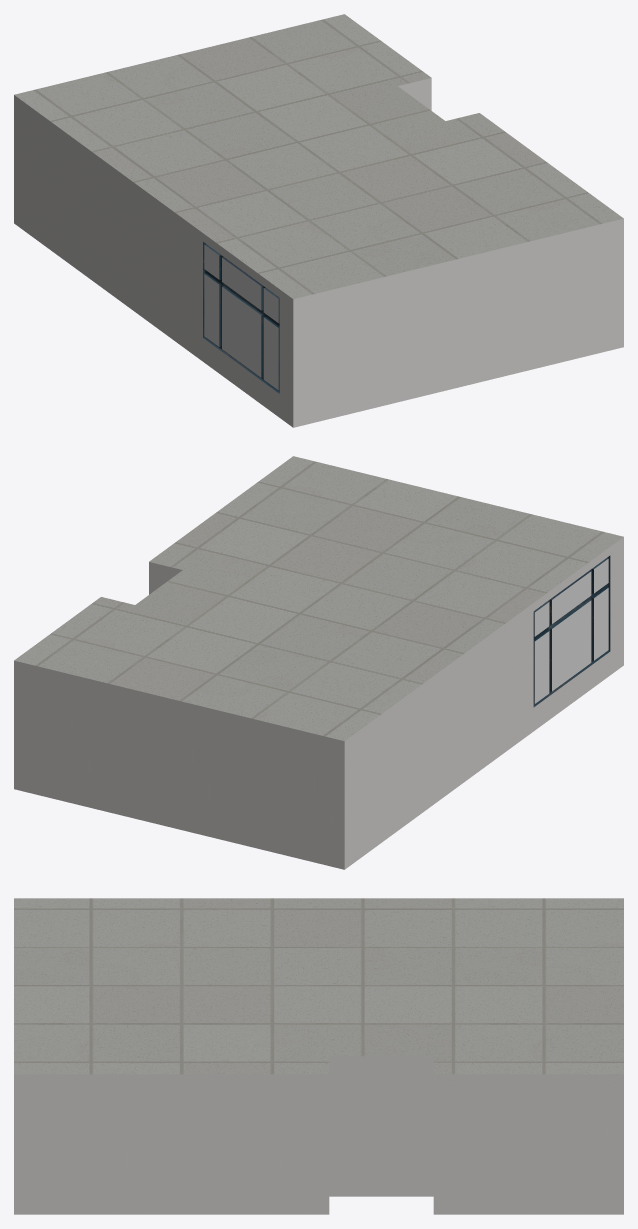
The model's file is AulaMapeada.fbx.
3 views of the same model, one above another, from view 1: azimuth 30°, elevation 25°; view 2: azimuth 150°, elevation 25°; view 3: azimuth 270°, elevation 25° (orthographic). The views are drawn at different scales.
Parts seen in each view (by area): view 1: Techo, Paredes, Ventana; view 2: Techo, Paredes, Ventana; view 3: Techo, Paredes.
Part boxes in pixels (left/top/right/bottom): Techo: left=14, top=14, right=623, bottom=298; Paredes: left=14, top=78, right=623, bottom=427; Ventana: left=203, top=242, right=279, bottom=393; Techo: left=14, top=456, right=623, bottom=740; Paredes: left=14, top=537, right=623, bottom=869; Ventana: left=533, top=555, right=610, bottom=707; Techo: left=14, top=898, right=623, bottom=1074; Paredes: left=14, top=1056, right=623, bottom=1214.
Size of the model in its own units: 1605 by 597 by 2348.
